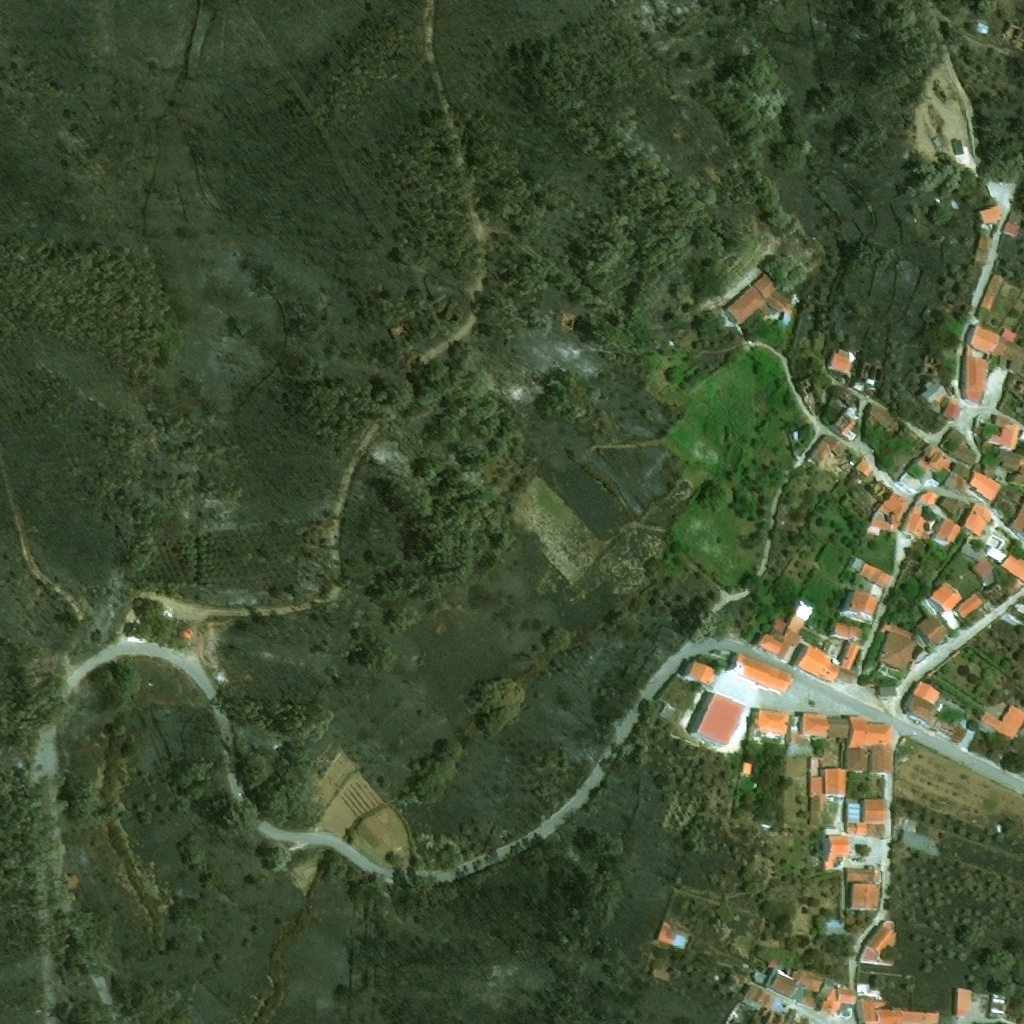0 no-damage: (808, 715, 894, 799), (838, 562, 895, 626), (725, 272, 789, 325), (757, 600, 813, 659), (688, 692, 746, 748), (918, 581, 984, 630), (748, 708, 831, 745), (750, 958, 825, 998), (969, 448, 1023, 501), (966, 325, 1023, 374), (727, 651, 791, 694), (876, 621, 917, 680), (856, 995, 940, 1023), (901, 681, 948, 726), (867, 491, 910, 536), (795, 644, 842, 684), (740, 984, 787, 1023), (844, 799, 886, 840), (844, 867, 880, 911), (940, 426, 979, 466), (982, 705, 1023, 742), (857, 924, 896, 962), (962, 354, 991, 403), (792, 373, 828, 411), (806, 434, 848, 465), (987, 414, 1023, 450), (897, 829, 939, 859), (917, 442, 954, 474), (960, 501, 992, 537), (915, 615, 950, 646), (933, 715, 970, 744), (900, 461, 933, 493), (979, 272, 1005, 310), (819, 987, 857, 1013), (653, 921, 689, 948), (681, 659, 715, 687), (932, 518, 963, 547), (864, 402, 896, 430), (832, 406, 860, 437), (953, 139, 977, 174), (838, 641, 860, 677), (919, 382, 948, 409), (826, 349, 857, 374), (904, 506, 928, 538), (944, 462, 971, 490), (828, 621, 863, 642), (859, 359, 883, 389), (857, 966, 881, 995), (973, 557, 996, 587), (986, 581, 1012, 606), (828, 834, 849, 863), (938, 496, 968, 516), (1000, 554, 1023, 579), (657, 703, 682, 726), (1003, 209, 1023, 237), (976, 203, 1002, 224), (826, 718, 851, 739), (953, 988, 972, 1015), (975, 235, 993, 262), (989, 991, 1007, 1018), (915, 488, 940, 507), (808, 796, 823, 825), (856, 458, 877, 478), (986, 543, 1008, 562), (823, 916, 845, 935), (1006, 372, 1023, 396), (944, 401, 962, 418), (737, 758, 754, 776), (1011, 508, 1023, 532), (848, 556, 865, 572), (876, 685, 897, 697), (808, 757, 819, 777), (975, 21, 990, 34), (1007, 21, 1023, 33), (727, 1006, 740, 1019), (779, 313, 792, 325)
